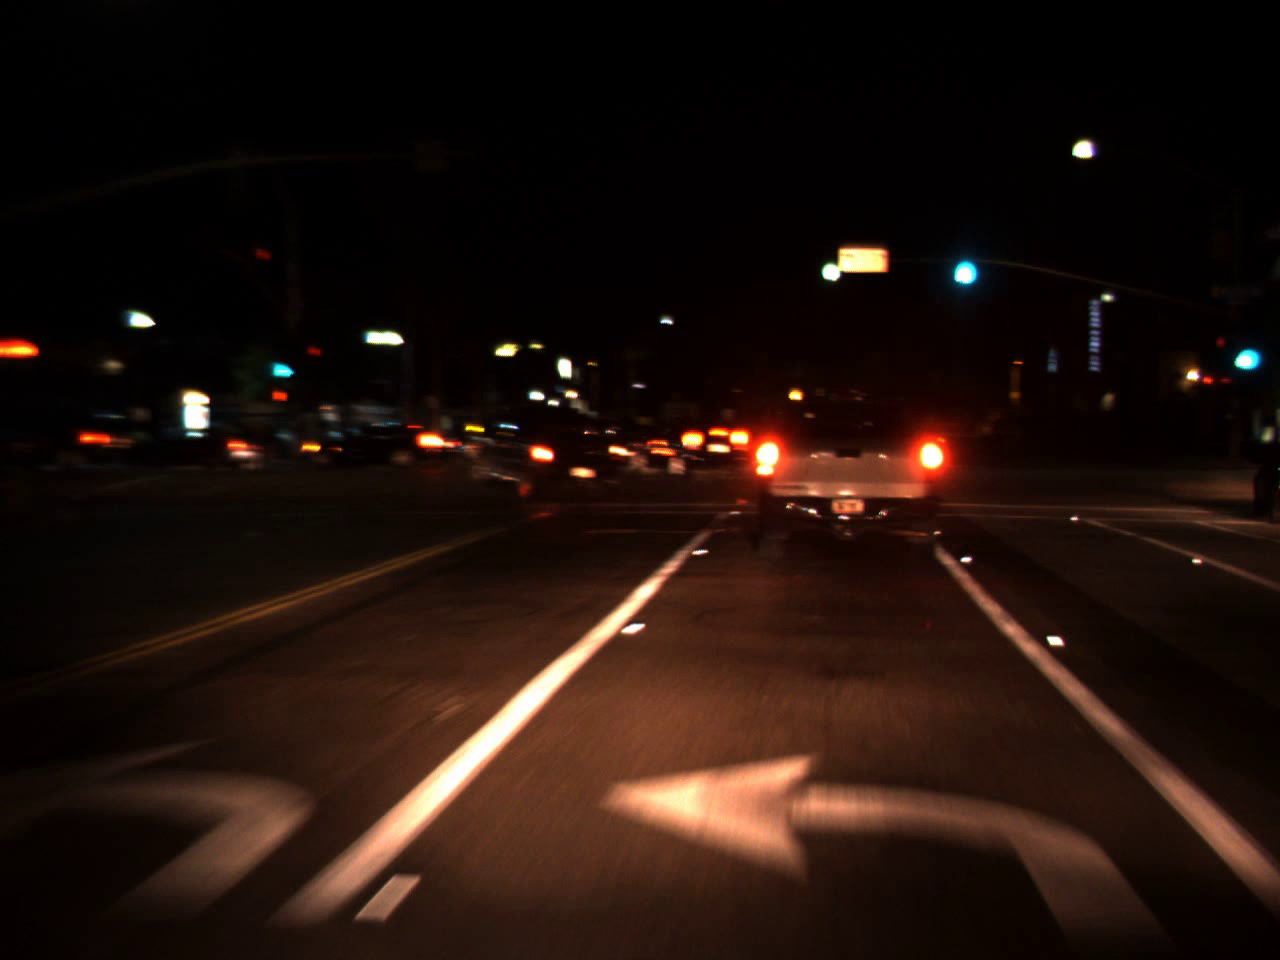go: (944, 230, 981, 293), (1226, 324, 1260, 378), (818, 242, 843, 287), (265, 348, 297, 381)
